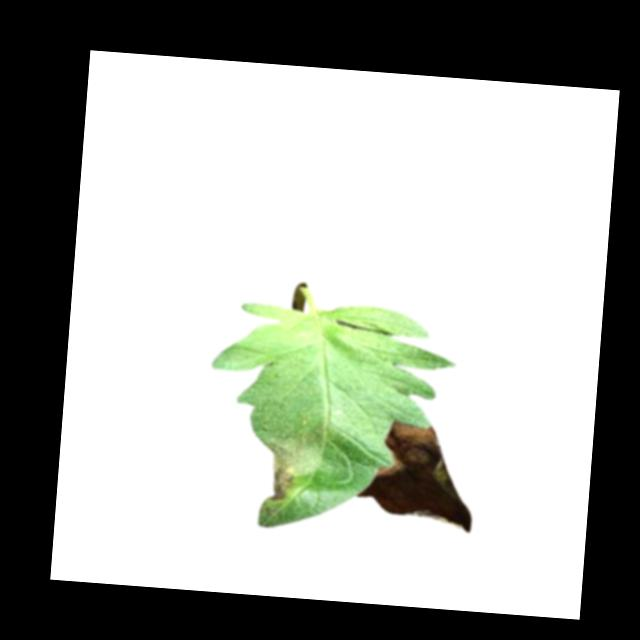Late_blight: (353, 417, 481, 534), (259, 421, 326, 507)
